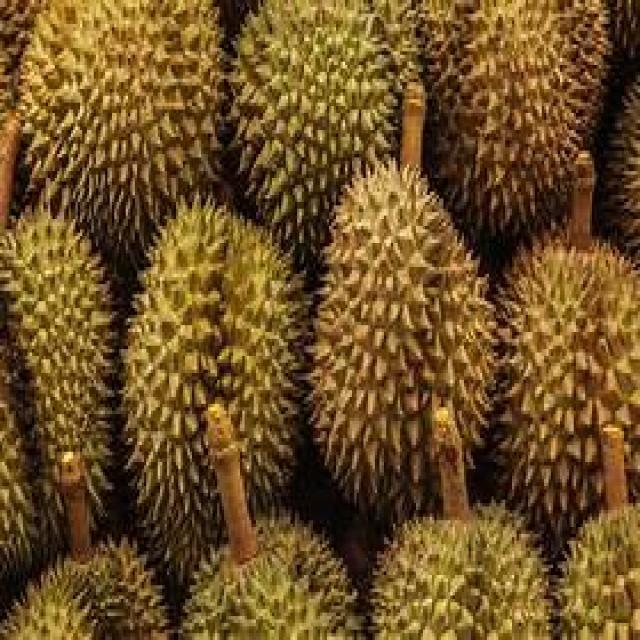mature: (125, 202, 308, 579), (312, 163, 495, 521), (20, 0, 221, 270), (495, 238, 640, 552)
